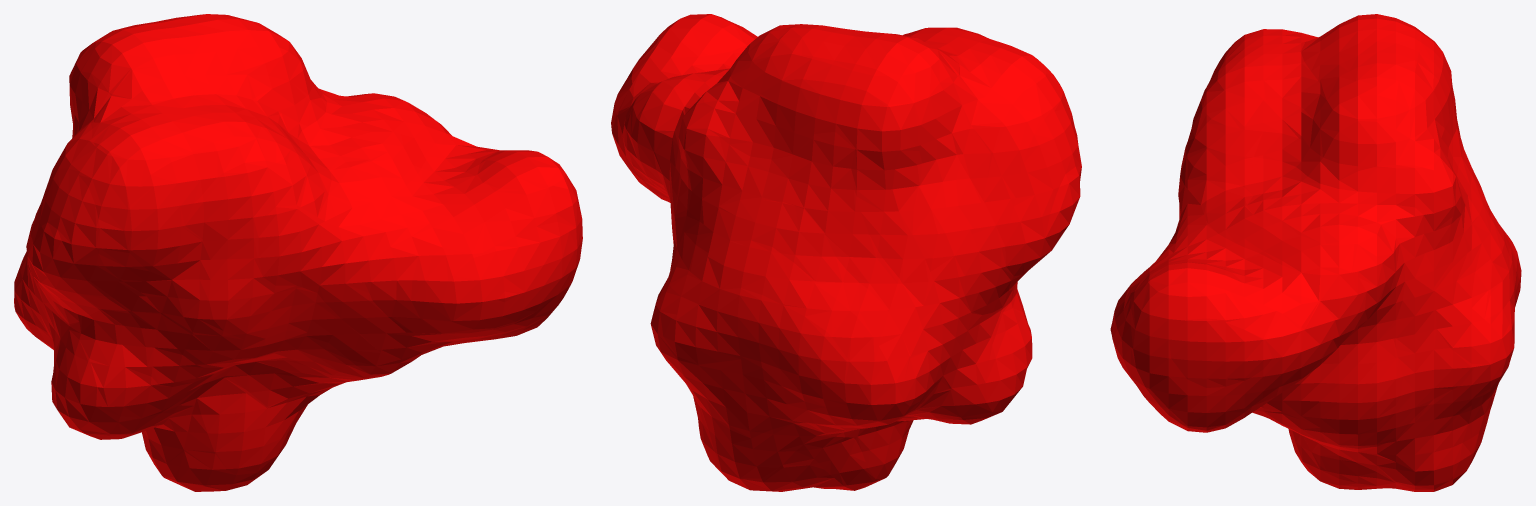
The model's file is glcG_coarse.dae.
3 views of the same model, side by side, from view 1: azimuth 30°, elevation 25°; view 2: azimuth 150°, elevation 25°; view 3: azimuth 270°, elevation 25° (orthographic). The views are drawn at different scales.
Visible parts, largest first — view 1: glcG; view 2: glcG; view 3: glcG.
Boxes of the visible parts, box(x1,y1,x2,y2) form: glcG: box(14, 14, 582, 491); glcG: box(611, 14, 1081, 491); glcG: box(1110, 14, 1521, 491).
Bounding box in the file's own units: 46.2 × 42.64 × 36.69.
